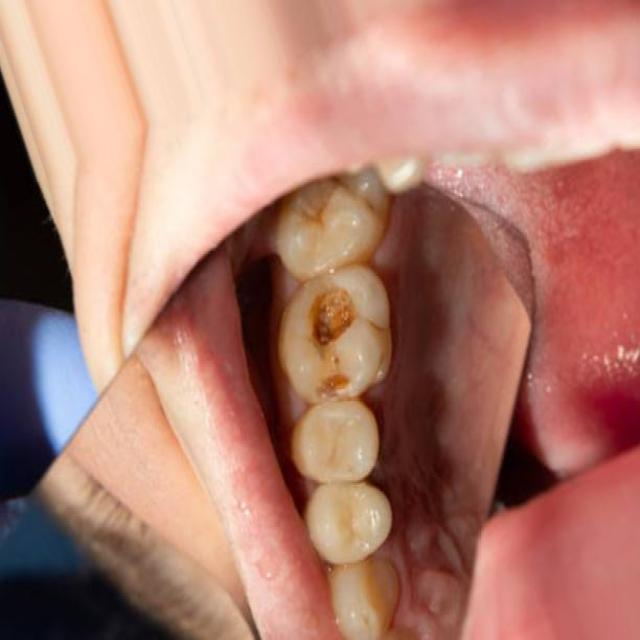caries: (299, 279, 374, 400)
